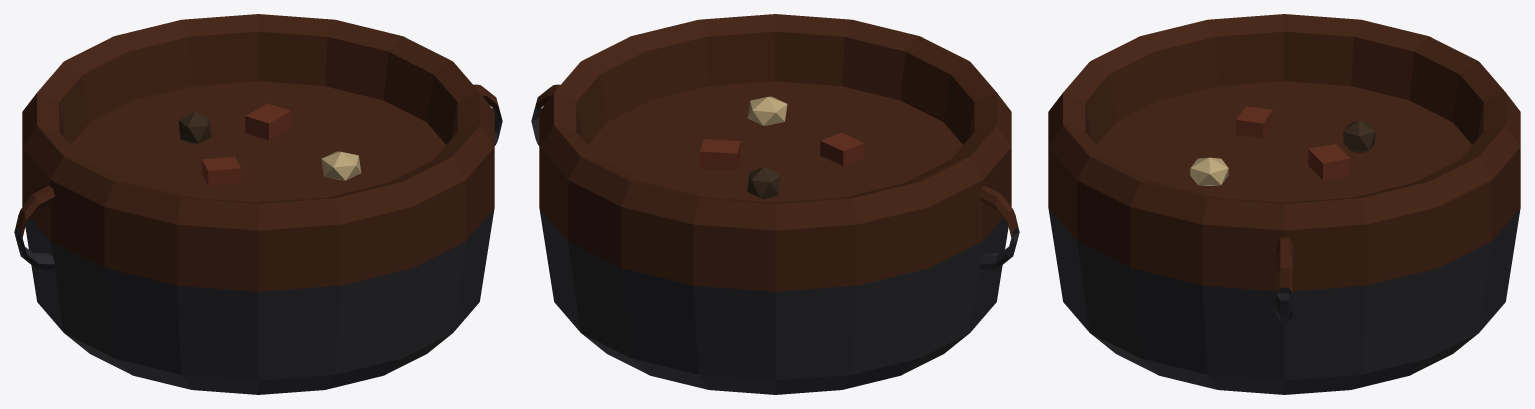
The model's file is Hearty_Stew.glb.
3 renders of one model, left to right at view 1: azimuth 30°, elevation 25°; view 2: azimuth 150°, elevation 25°; view 3: azimuth 270°, elevation 25°, orthographic.
Visible parts, largest first — view 1: _I_HeartyStew; view 2: _I_HeartyStew; view 3: _I_HeartyStew.
Part boxes in pixels (box(x1,y1,x2,y2)): _I_HeartyStew: box(14, 14, 502, 394); _I_HeartyStew: box(531, 14, 1019, 394); _I_HeartyStew: box(1048, 14, 1520, 394).
Bounding box in the file's own units: 0.74 × 0.3 × 0.6303.
